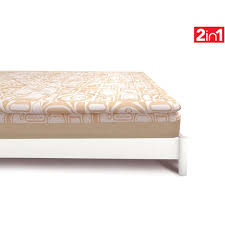bed-matress: (1, 69, 183, 140)
